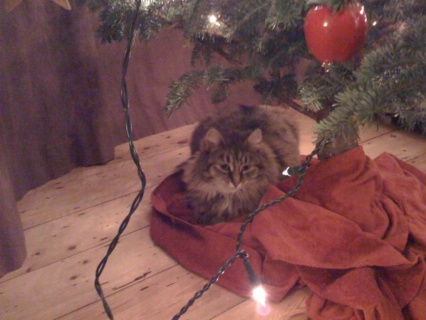Cat: (181, 98, 304, 230)
